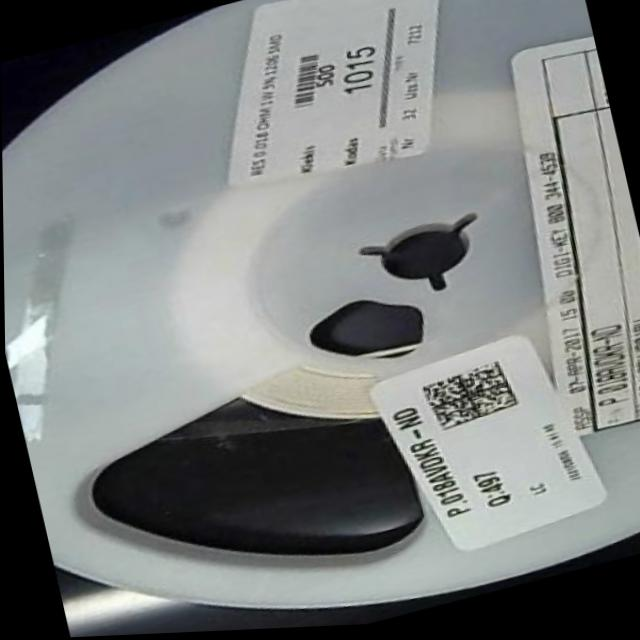datamatrix: (413, 357, 522, 439)
